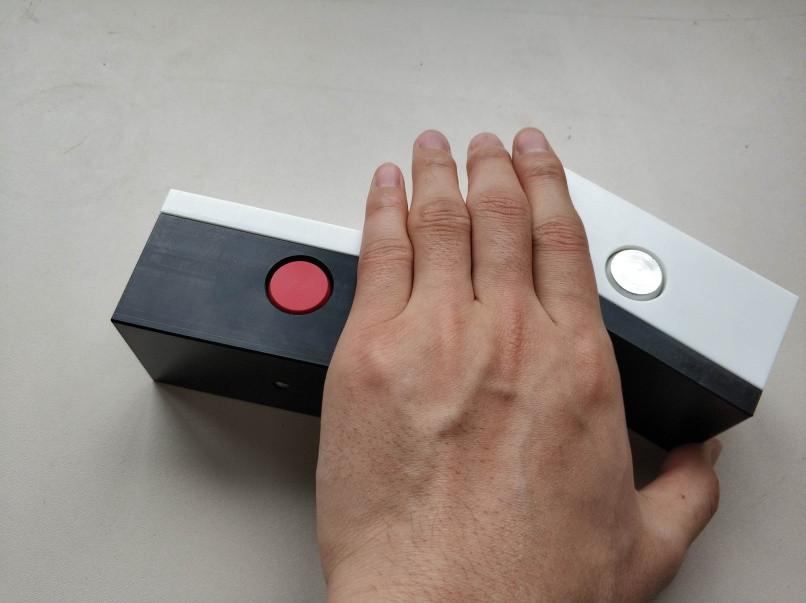black+white+silver: (559, 157, 802, 456)
white+black+red: (103, 186, 365, 414)
